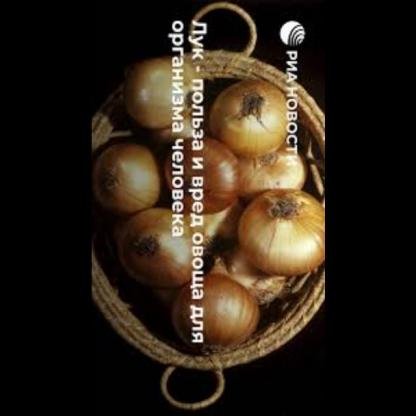onion: (119, 83, 322, 332)
